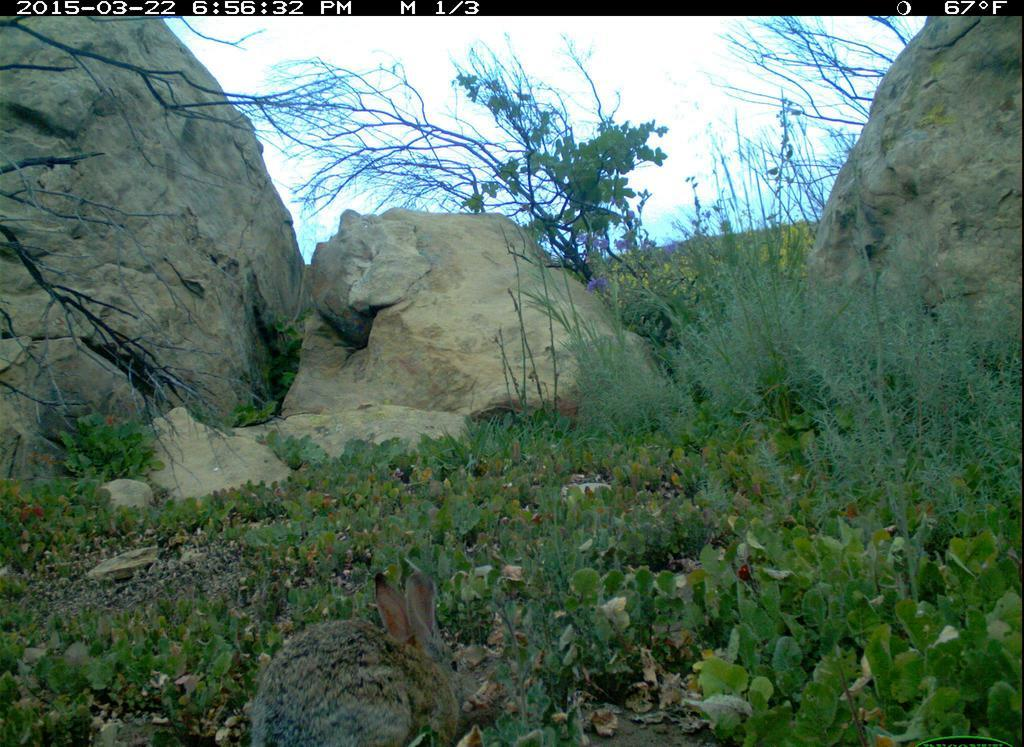rabbit: (241, 571, 495, 747)
